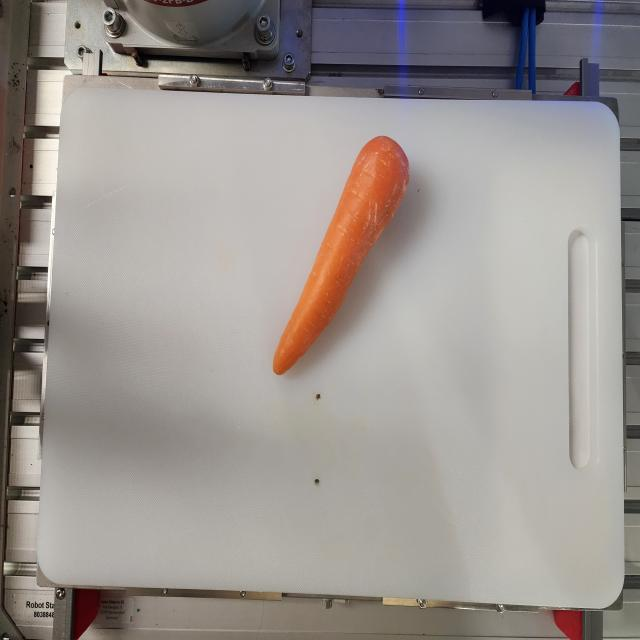carrot: (272, 134, 410, 376)
